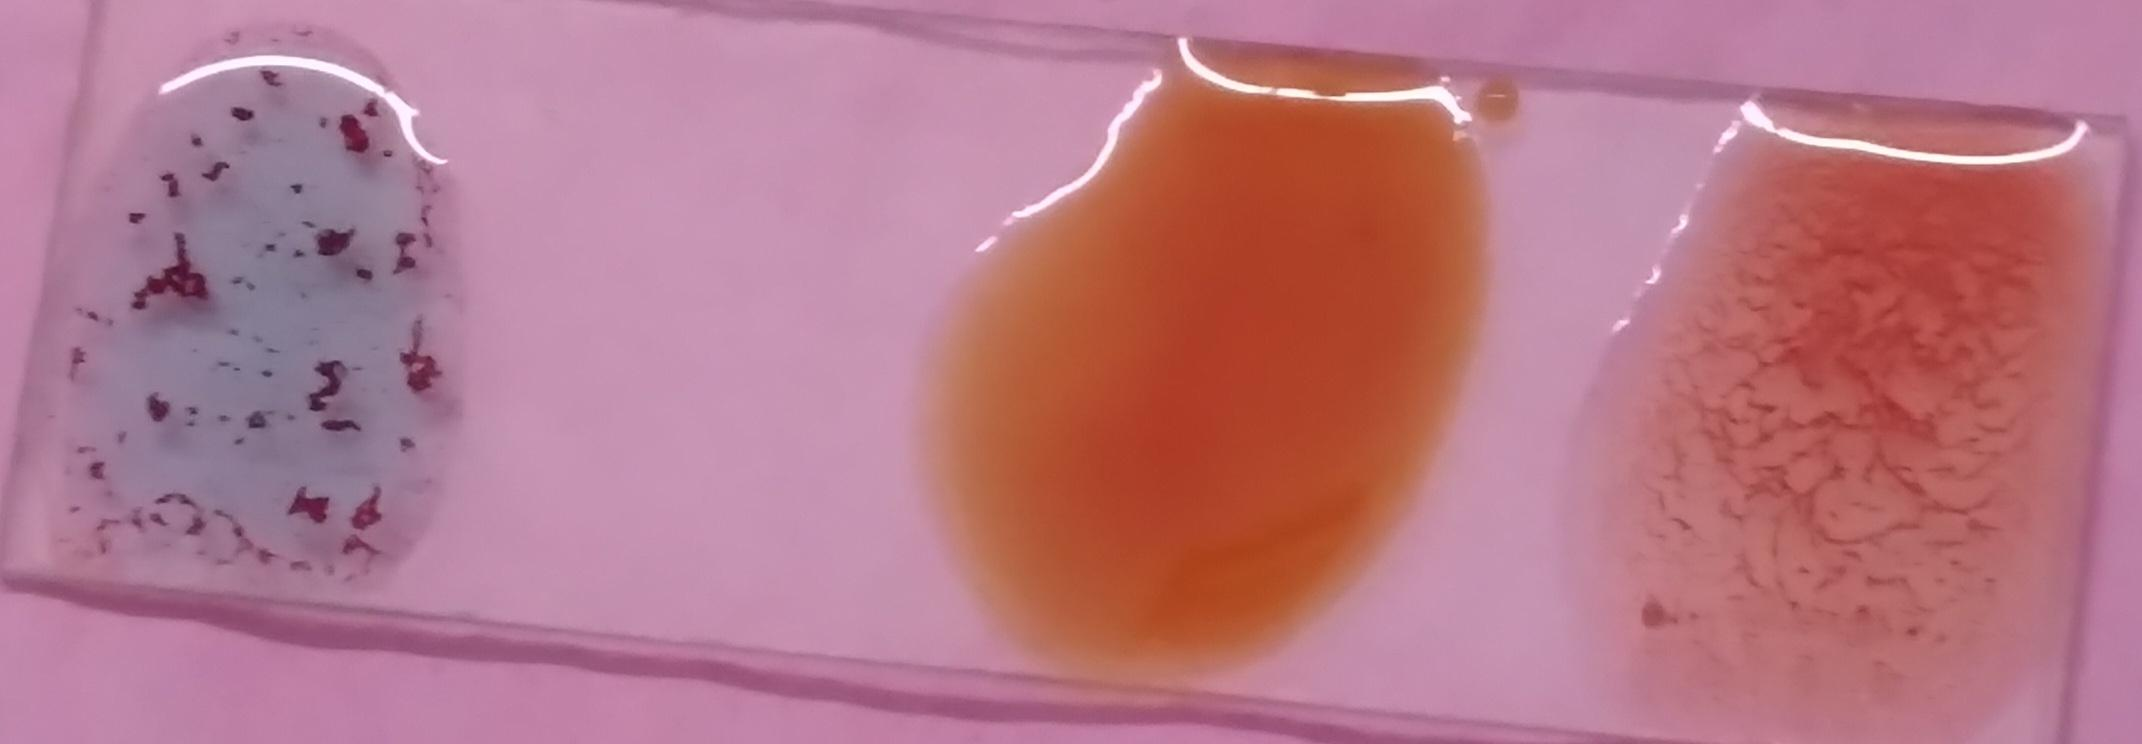A: (71, 48, 449, 579)
D: (1653, 131, 2049, 699)
